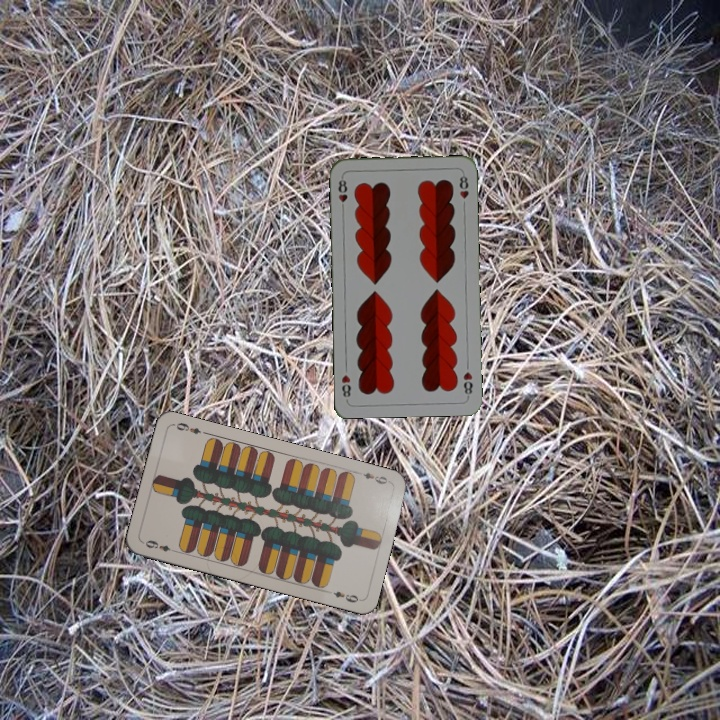E9: (139, 536, 179, 554), (353, 468, 390, 487)
H8: (334, 173, 350, 213), (459, 368, 475, 399)
